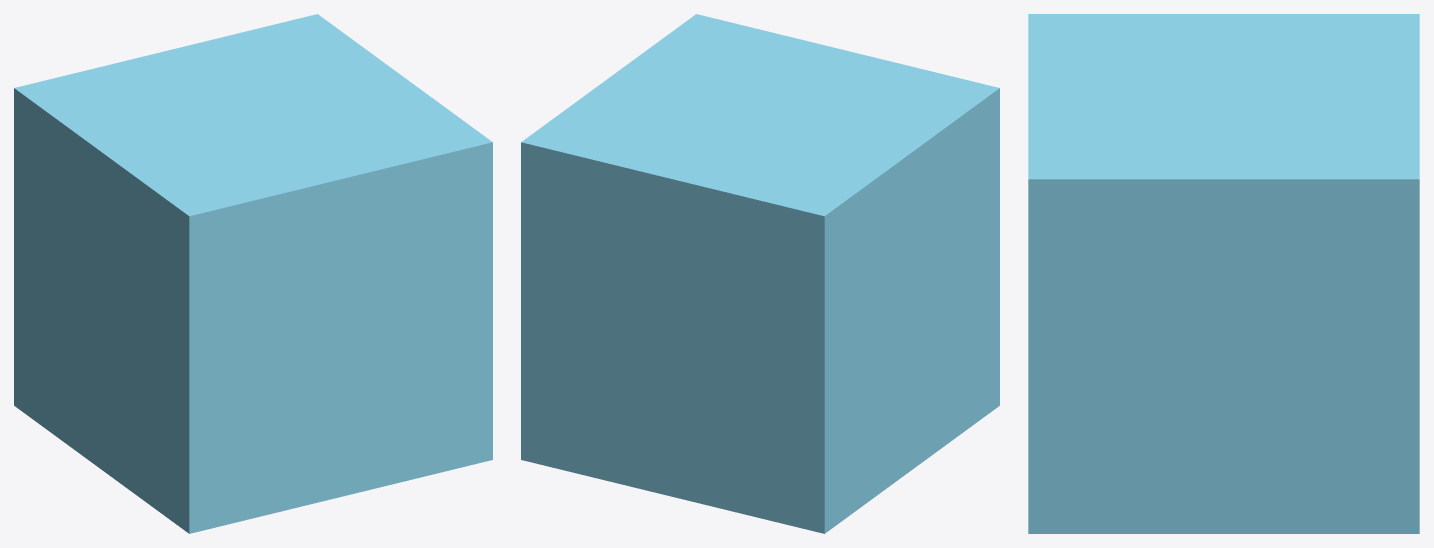
Rendered from 117_reef_petal_block.glb.
3 renders of one model, left to right at view 1: azimuth 30°, elevation 25°; view 2: azimuth 150°, elevation 25°; view 3: azimuth 270°, elevation 25°, orthographic. The views are drawn at different scales.
Visible parts, largest first — view 1: Core; view 2: Core; view 3: Core.
Part boxes in pixels (bbox=[...]): Core: bbox=[14, 14, 492, 533]; Core: bbox=[521, 14, 999, 533]; Core: bbox=[1028, 14, 1419, 533].
Bounding box in the file's own units: 1 × 1 × 1.
